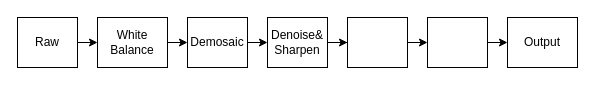
Some shapes in this 595 by 85 pixel diagram are drawn without their labels. Here are the shapes that lost their labels. From the top down, the centre of each, then its label:
point 377,42: Color Space Conersion
point 457,42: Gamma Correction
